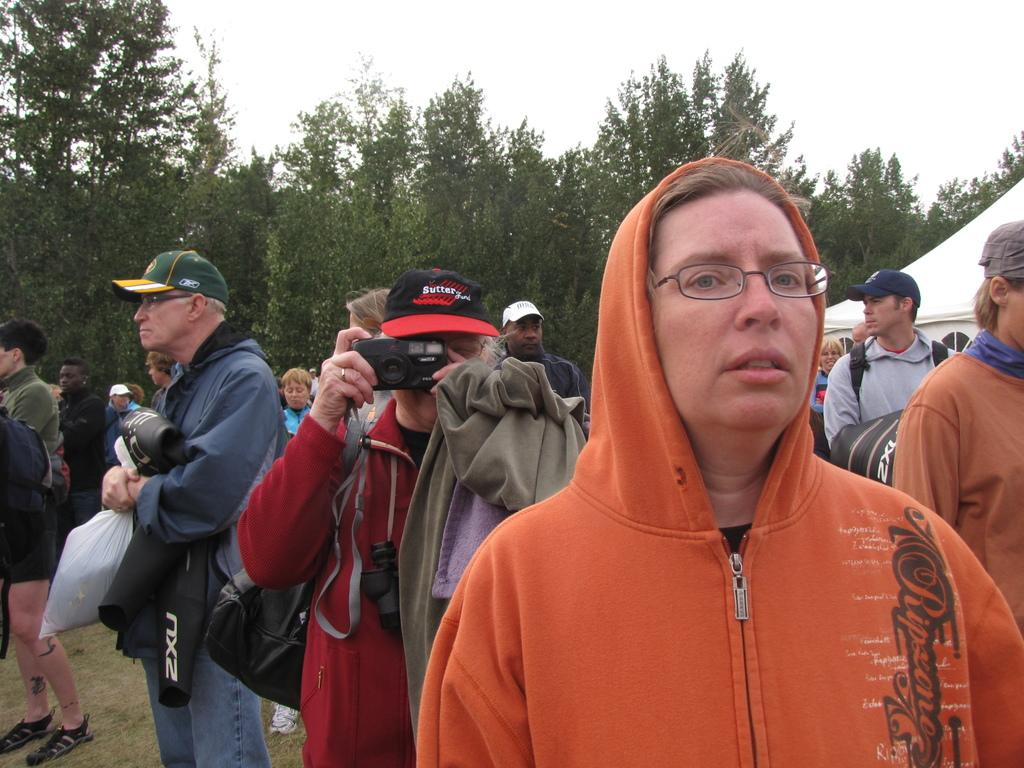Hat: (380, 266, 500, 340), (113, 246, 228, 308), (848, 267, 922, 307), (978, 219, 1022, 280), (500, 299, 540, 327), (106, 383, 132, 396)
